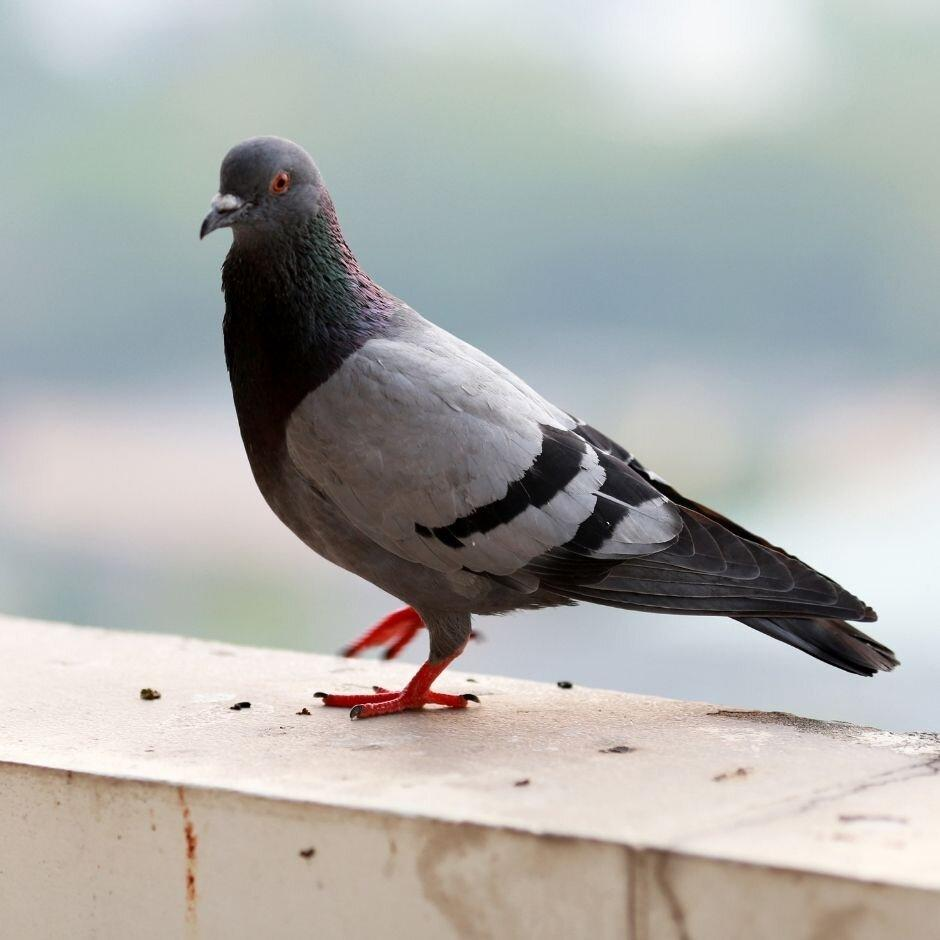Flying Rat: (197, 132, 901, 765)
